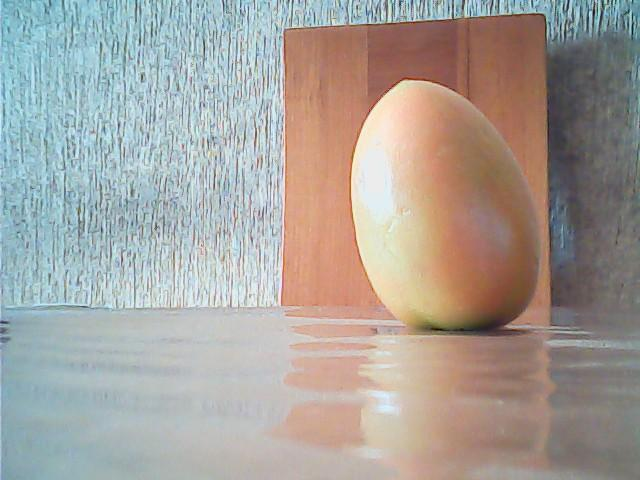verde: (348, 77, 542, 334)
